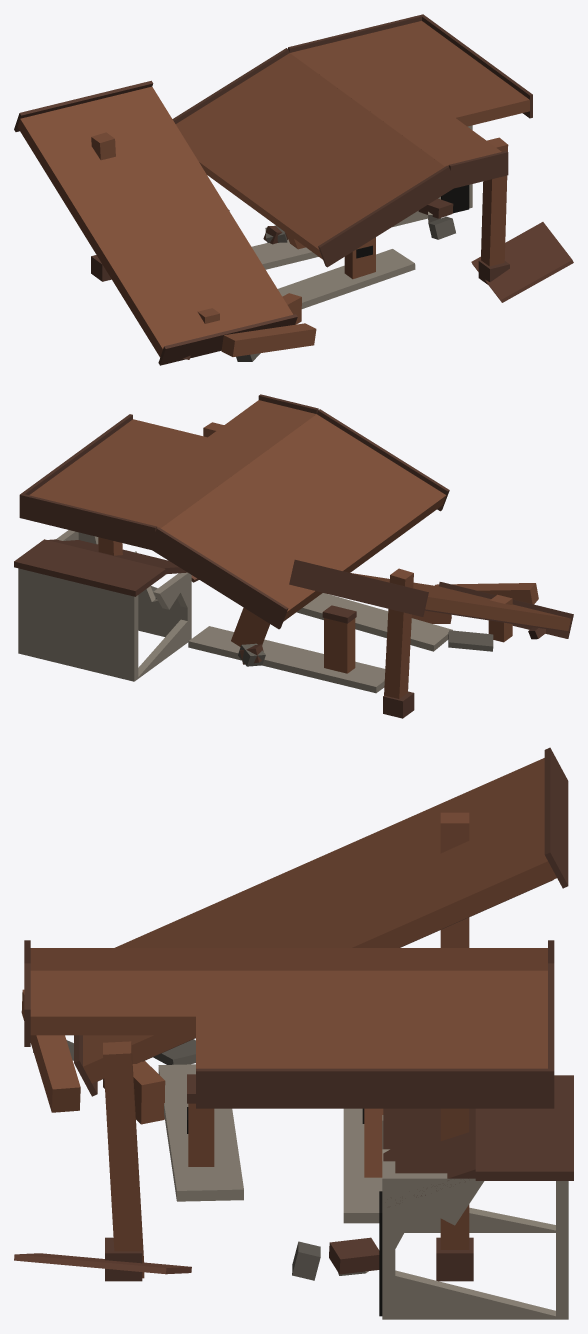
3 views of the same model, one above another, from view 1: azimuth 30°, elevation 25°; view 2: azimuth 150°, elevation 25°; view 3: azimuth 270°, elevation 25° (orthographic). The views are drawn at different scales.
Visible parts, largest first — view 1: site_gas_station_ruin; view 2: site_gas_station_ruin; view 3: site_gas_station_ruin.
Boxes of the visible parts, x1,y1,x2,y2 form: site_gas_station_ruin: (14,14,573,365); site_gas_station_ruin: (14,394,573,718); site_gas_station_ruin: (14,747,573,1319).
Bounding box in the file's own units: 14.8 × 5.39 × 10.82.
